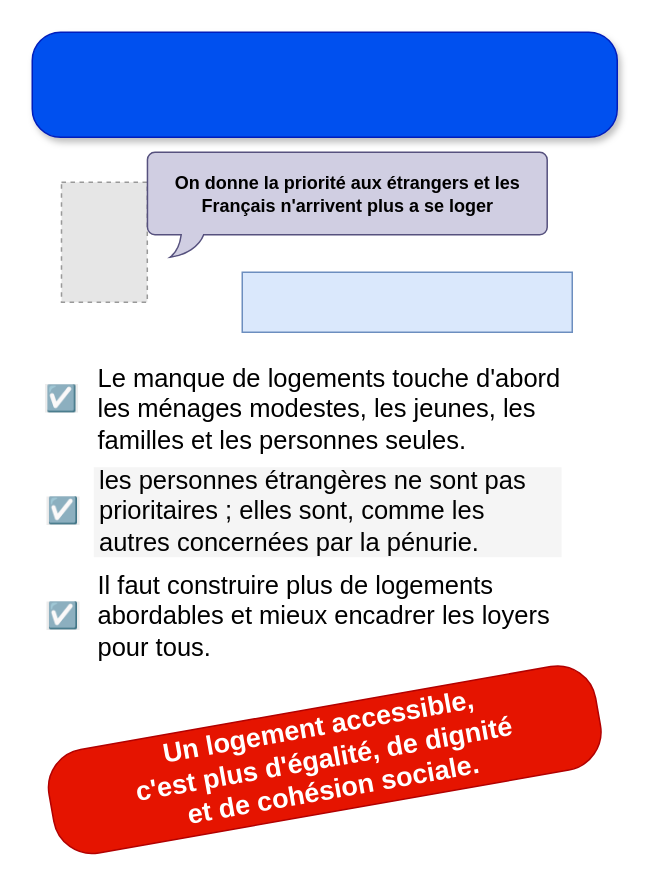
The diagram is 653 pixels wide and 887 high, and some of its shapes have lost their labels. Grey dashed boxes stand in for pictures. The shapes that lost their labels are listed below. From the top down, each one's centre as x and y in pixels, then its label:
At point (325, 86): "LOGEMENT Un droit essentiel a protéger".
At point (406, 301): "La réalité :".
